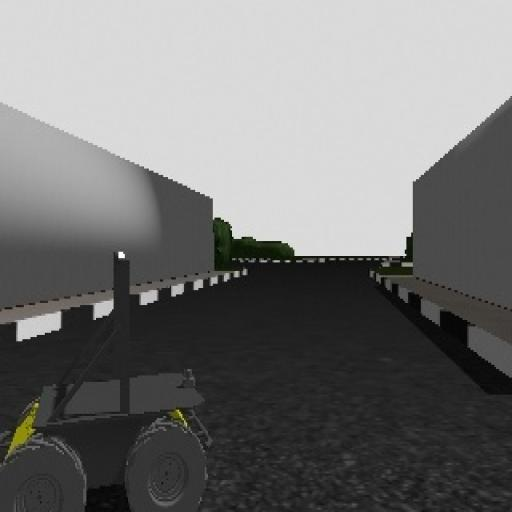huskya200: (0, 243, 236, 512)
